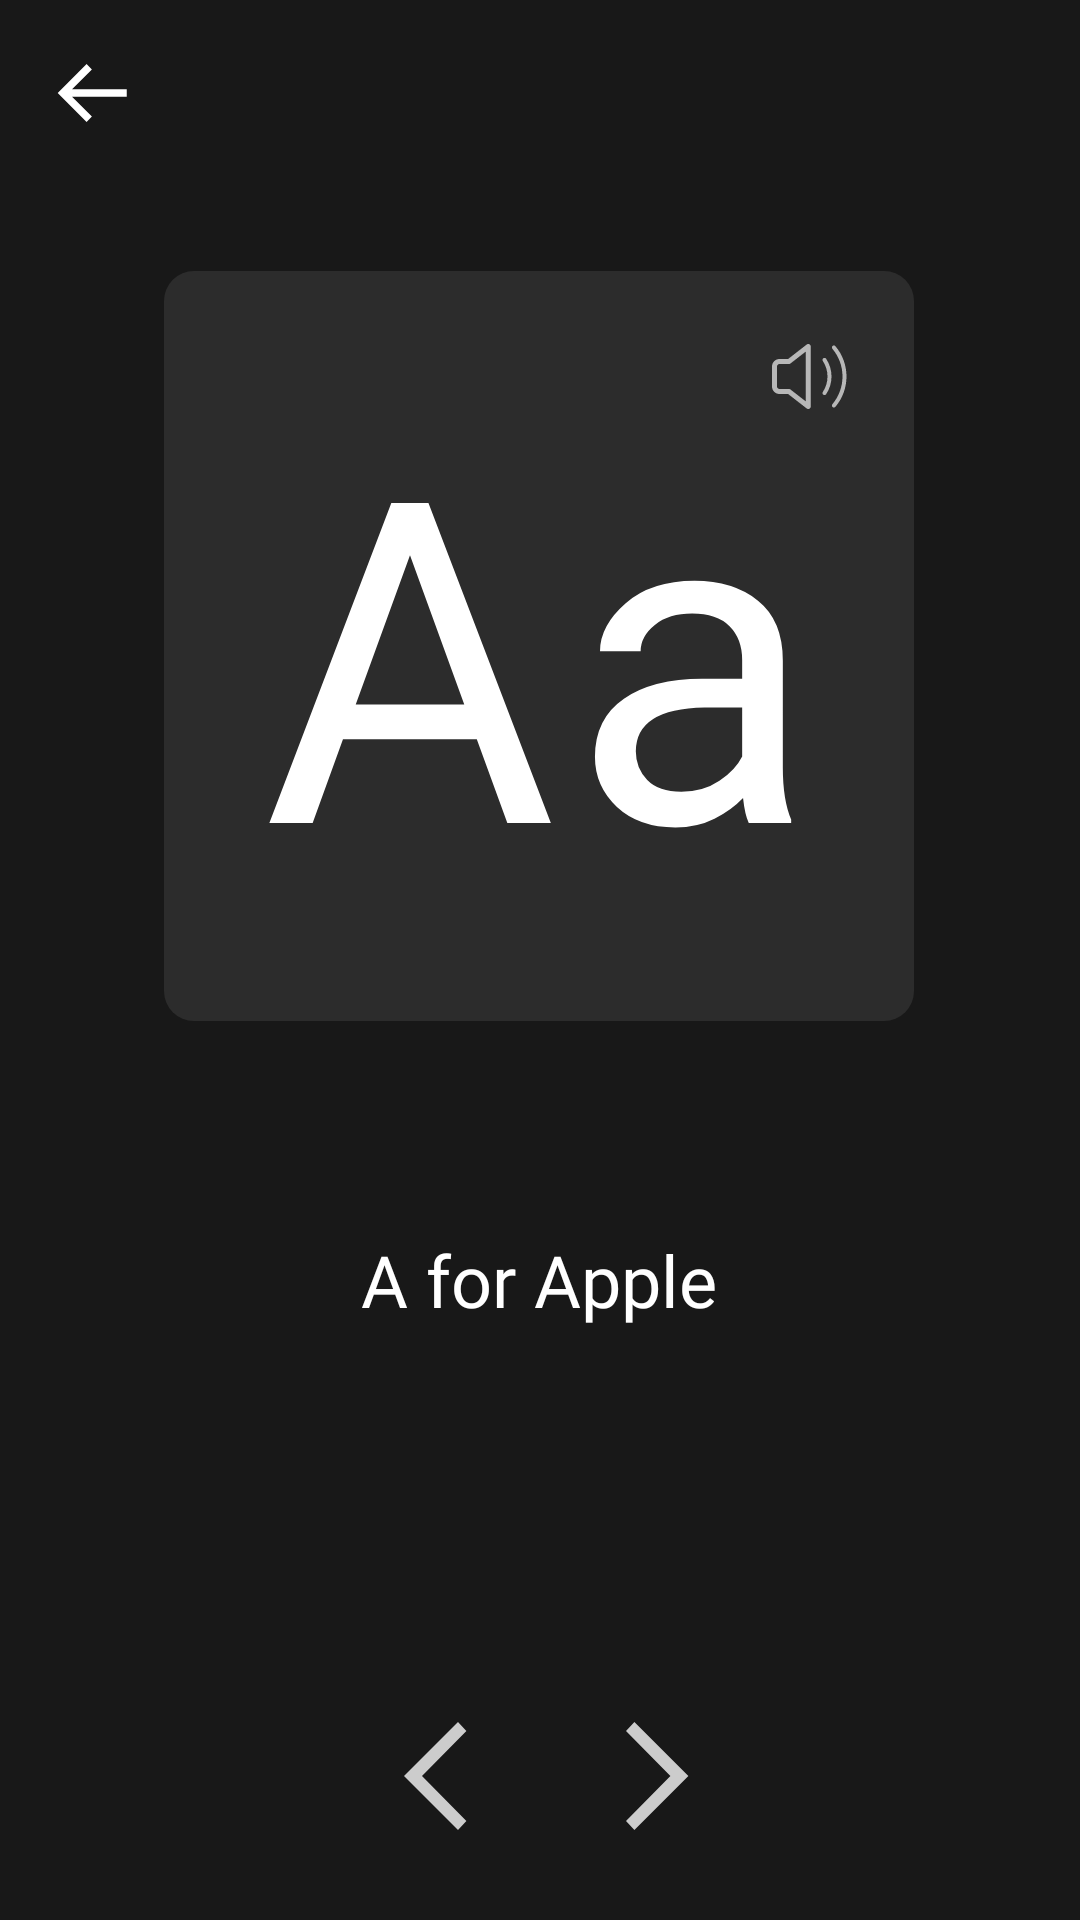

Screen size 1080 × 1920. Icon name, then its box in pixels as (x1, y1, x2, y2):
back: (58, 64, 127, 122)
next: (626, 1722, 688, 1830)
previous: (404, 1722, 466, 1830)
speaker: (772, 344, 847, 409)
